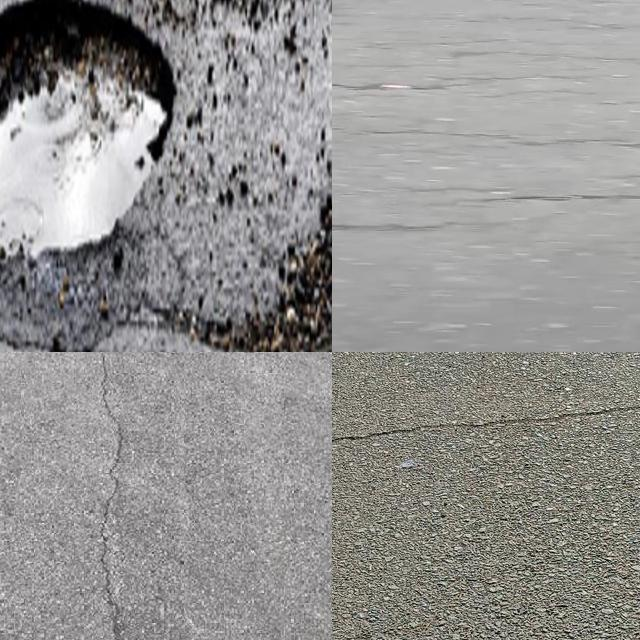Lubang: (0, 0, 171, 261)
Melintang: (332, 392, 640, 455), (332, 211, 461, 247)
Memanjang: (83, 352, 135, 640)
